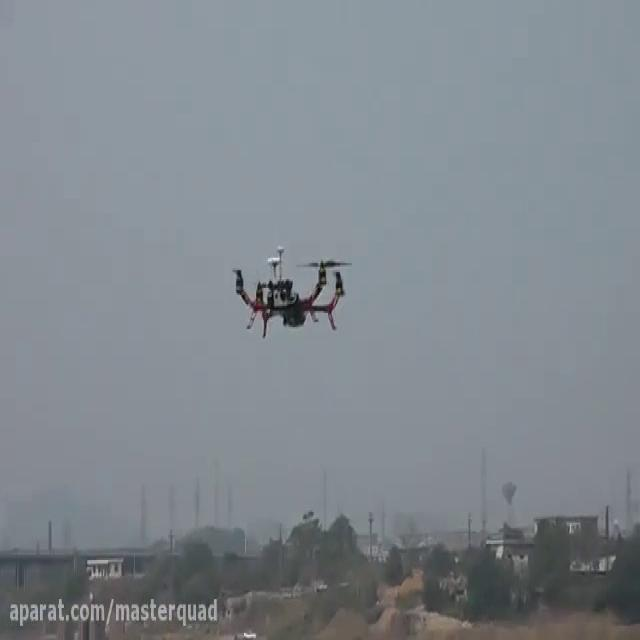drone: (226, 237, 357, 343)
